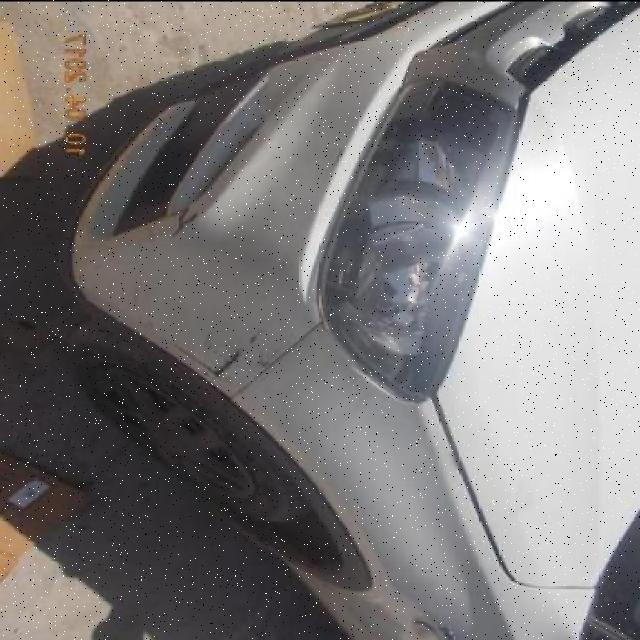damage: (74, 210, 173, 253), (207, 320, 271, 379), (171, 338, 223, 382), (165, 198, 207, 236), (325, 140, 348, 173), (275, 250, 291, 275)
